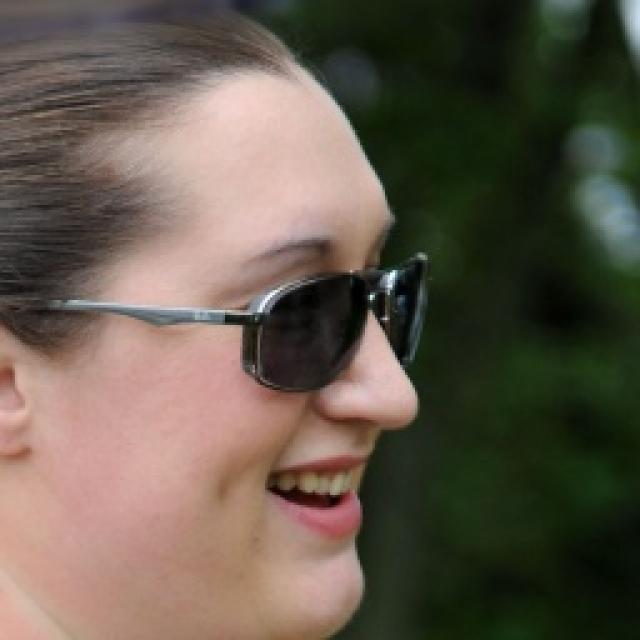glasses: (5, 256, 447, 410)
